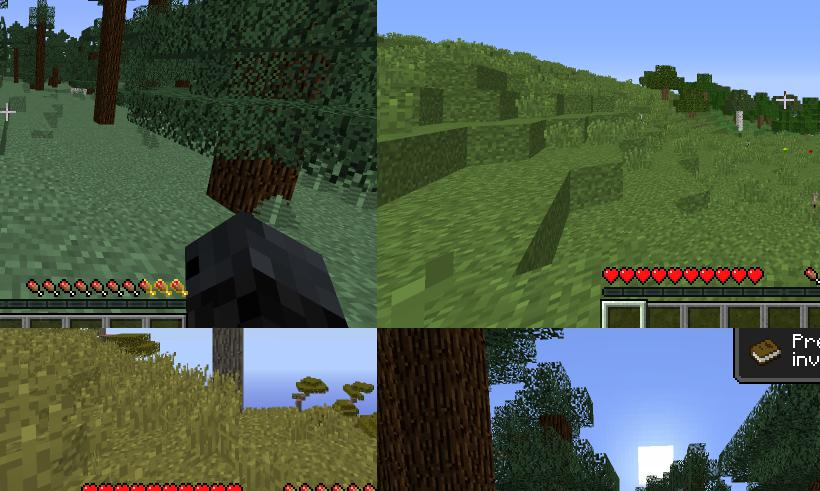minecraft-blocks: (400, 329, 508, 491), (378, 329, 415, 491), (213, 155, 297, 216), (185, 329, 246, 408), (99, 1, 120, 123), (35, 32, 46, 90), (737, 112, 744, 132), (662, 89, 670, 102), (758, 116, 764, 130), (767, 120, 773, 129), (703, 92, 708, 102), (691, 112, 696, 120)
